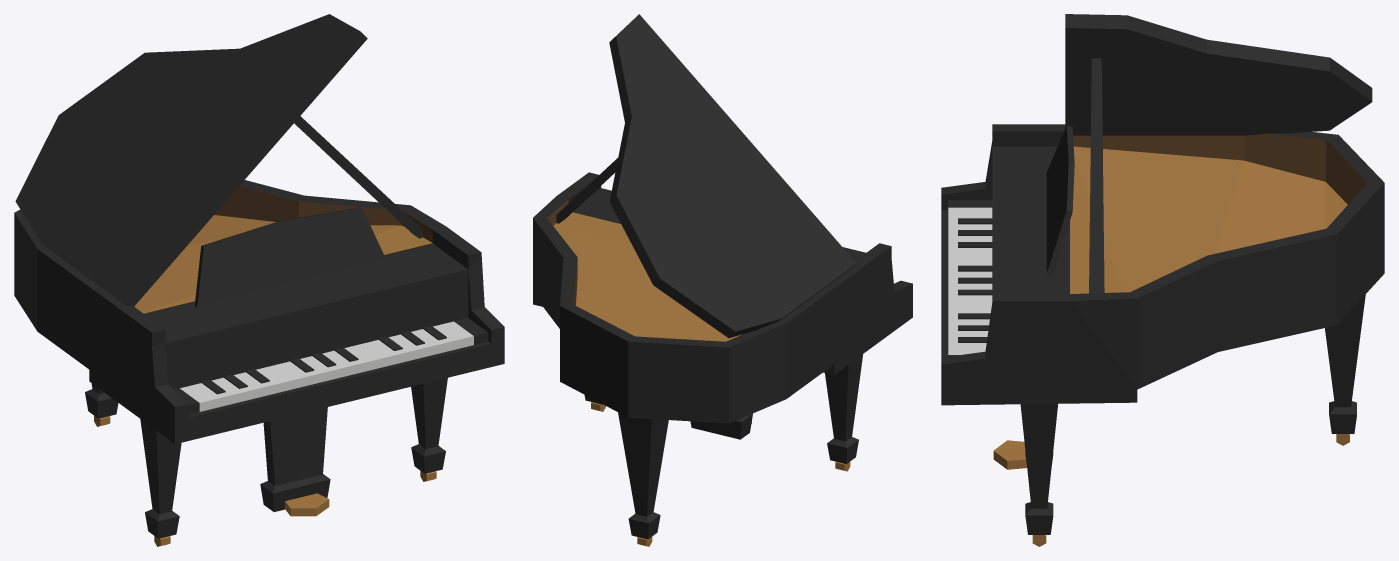
Rendered from music_piano.fbx.
The picture shows the model from 3 angles, left to right: view 1: azimuth 30°, elevation 25°; view 2: azimuth 150°, elevation 25°; view 3: azimuth 270°, elevation 25°; orthographic projection. The views are drawn at different scales.
Visible parts, largest first — view 1: music_piano; view 2: music_piano; view 3: music_piano.
Boxes of the visible parts, x1,y1,x2,y2 form: music_piano: (14,14,504,546); music_piano: (533,14,912,546); music_piano: (941,14,1384,546).
Bounding box in the file's own units: 151 × 199 × 160.
